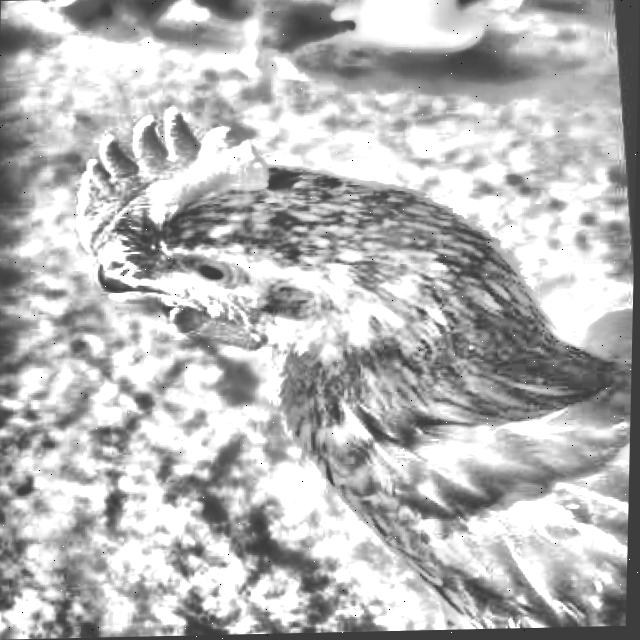Healthy: (183, 244, 255, 297)
